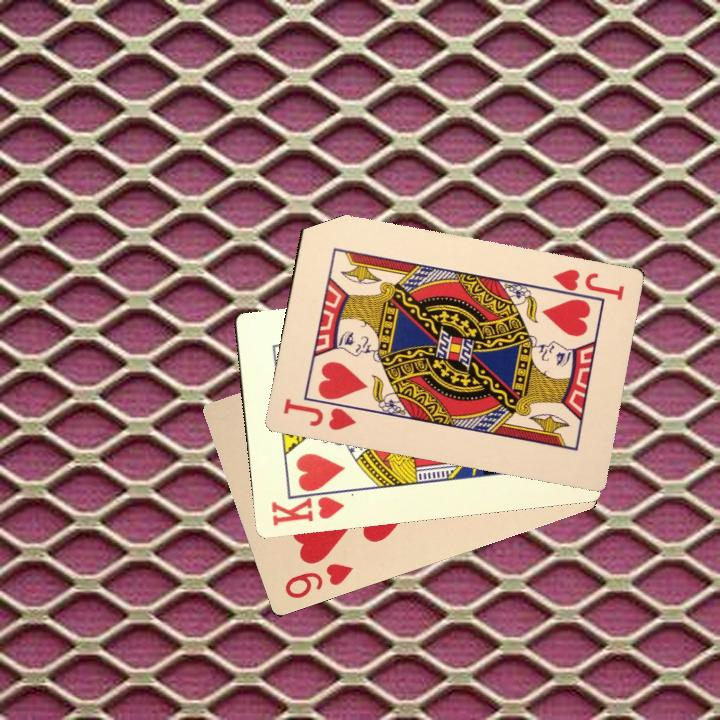9h: (280, 559, 355, 601)
Jh: (545, 264, 627, 306), (279, 392, 362, 433)
Kh: (267, 486, 347, 529)
